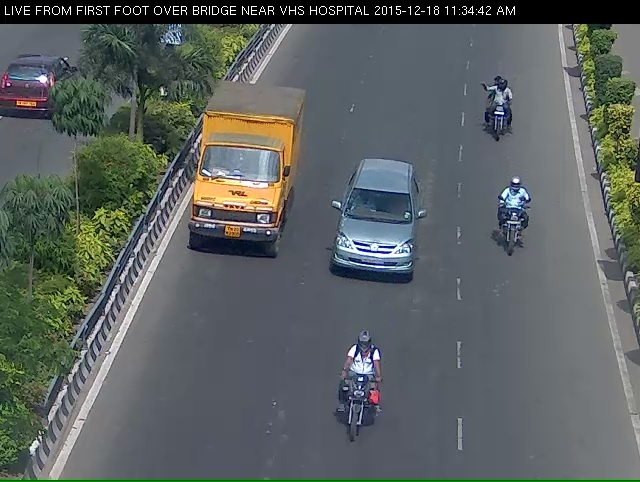Bus: (200, 84, 284, 275)
Car: (328, 167, 417, 306)
Person: (314, 354, 395, 477), (470, 79, 529, 158), (492, 188, 537, 280)
